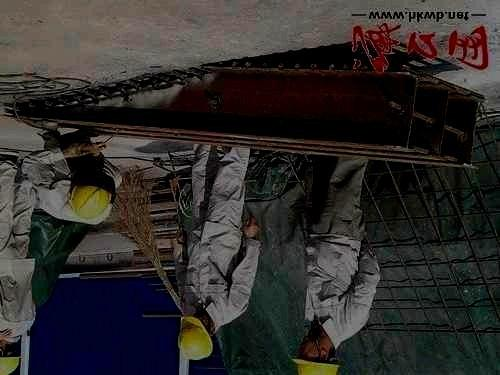helmet: (290, 333, 340, 375), (178, 309, 215, 360), (67, 182, 112, 221), (1, 341, 22, 374)
